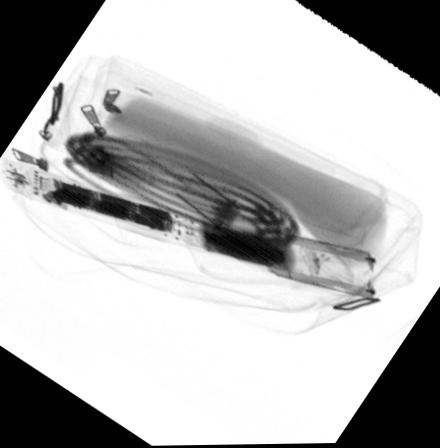Baton: (0, 156, 378, 302)
